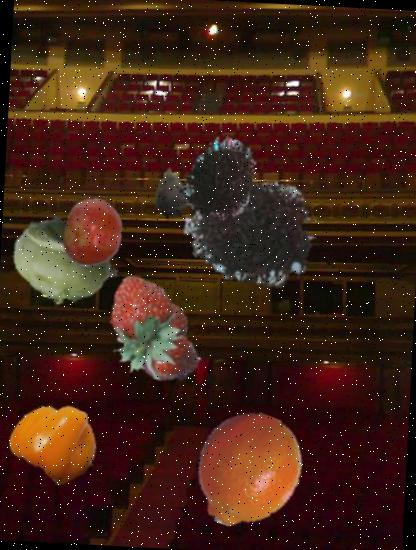Beetroot: (142, 164, 199, 221)
Cherry: (57, 196, 130, 269)
Kohlrabi: (9, 200, 126, 316)
Pepper: (10, 398, 101, 489)
Rambutan: (180, 159, 325, 304), (178, 134, 267, 224)
Strawberry: (87, 270, 210, 393)
Tangelo: (186, 408, 310, 532)
